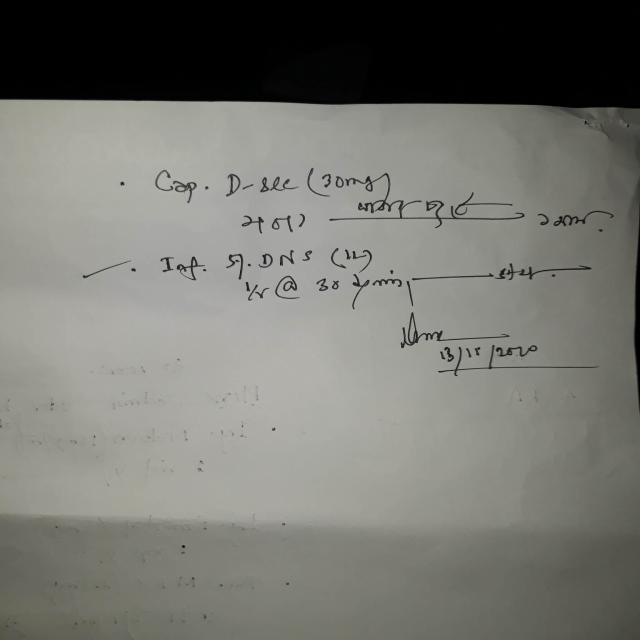D-Set: (219, 165, 311, 204)
DNS: (253, 247, 321, 272)
